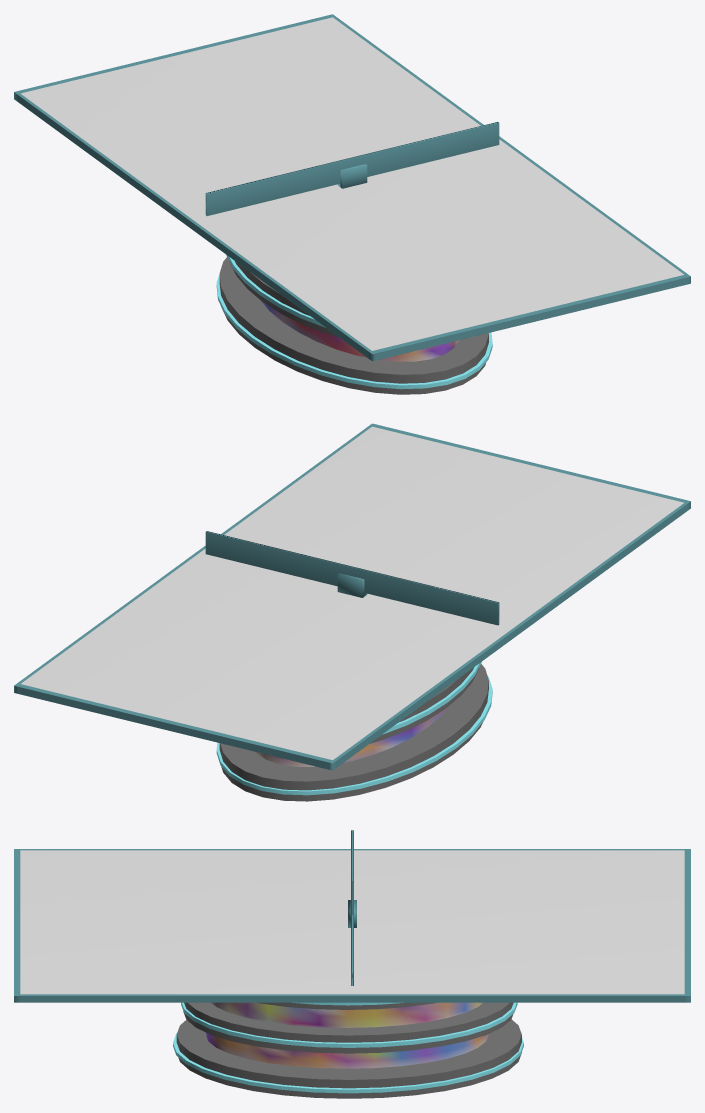
The model's file is table.gltf.
3 renders of one model, top to bottom at view 1: azimuth 30°, elevation 25°; view 2: azimuth 150°, elevation 25°; view 3: azimuth 270°, elevation 25°, orthographic. The views are drawn at different scales.
Visible parts, largest first — view 1: table, table_adges, Object_19, middle, Object_25, Object_3, Object_21, Object_23; view 2: table, table_adges, Object_19, middle, Object_25, Object_3, Object_21, Object_23; view 3: table, Object_19, table_adges, Object_3, Object_21, Object_25, Object_23, Object_29, middle.
Boxes of the visible parts, x1,y1,x2,y2 form: table: (21,17,683,350); table_adges: (14,14,690,361); Object_19: (219,257,488,394); middle: (205,122,499,215); Object_25: (216,274,492,389); Object_3: (260,300,458,361); Object_21: (229,261,338,337); Object_23: (226,255,325,327); table: (21,426,683,760); table_adges: (14,423,690,770); Object_19: (219,664,488,801); middle: (205,531,499,625); Object_25: (216,675,492,795); Object_3: (256,704,450,766); Object_21: (369,667,479,743); Object_23: (382,662,481,734); table: (20,850,684,994); Object_19: (176,1019,521,1098); table_adges: (14,849,690,1002); Object_3: (205,1002,488,1068); Object_21: (183,1002,513,1053); Object_25: (173,1033,523,1093); Object_23: (181,1002,517,1047); Object_29: (257,1002,436,1009); middle: (351,830,353,985).
Size of the model in its own units: 2.18 by 1.08 by 4.24.
